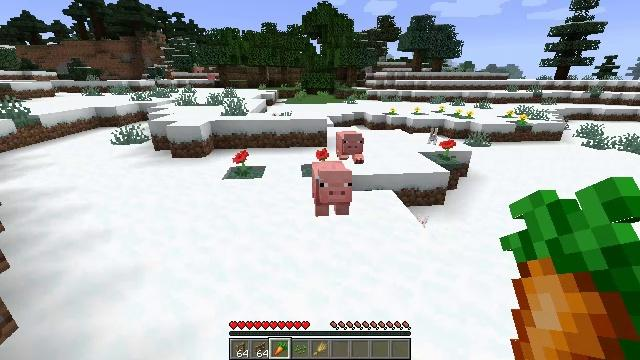pig: (311, 162, 351, 215), (335, 130, 363, 161)
